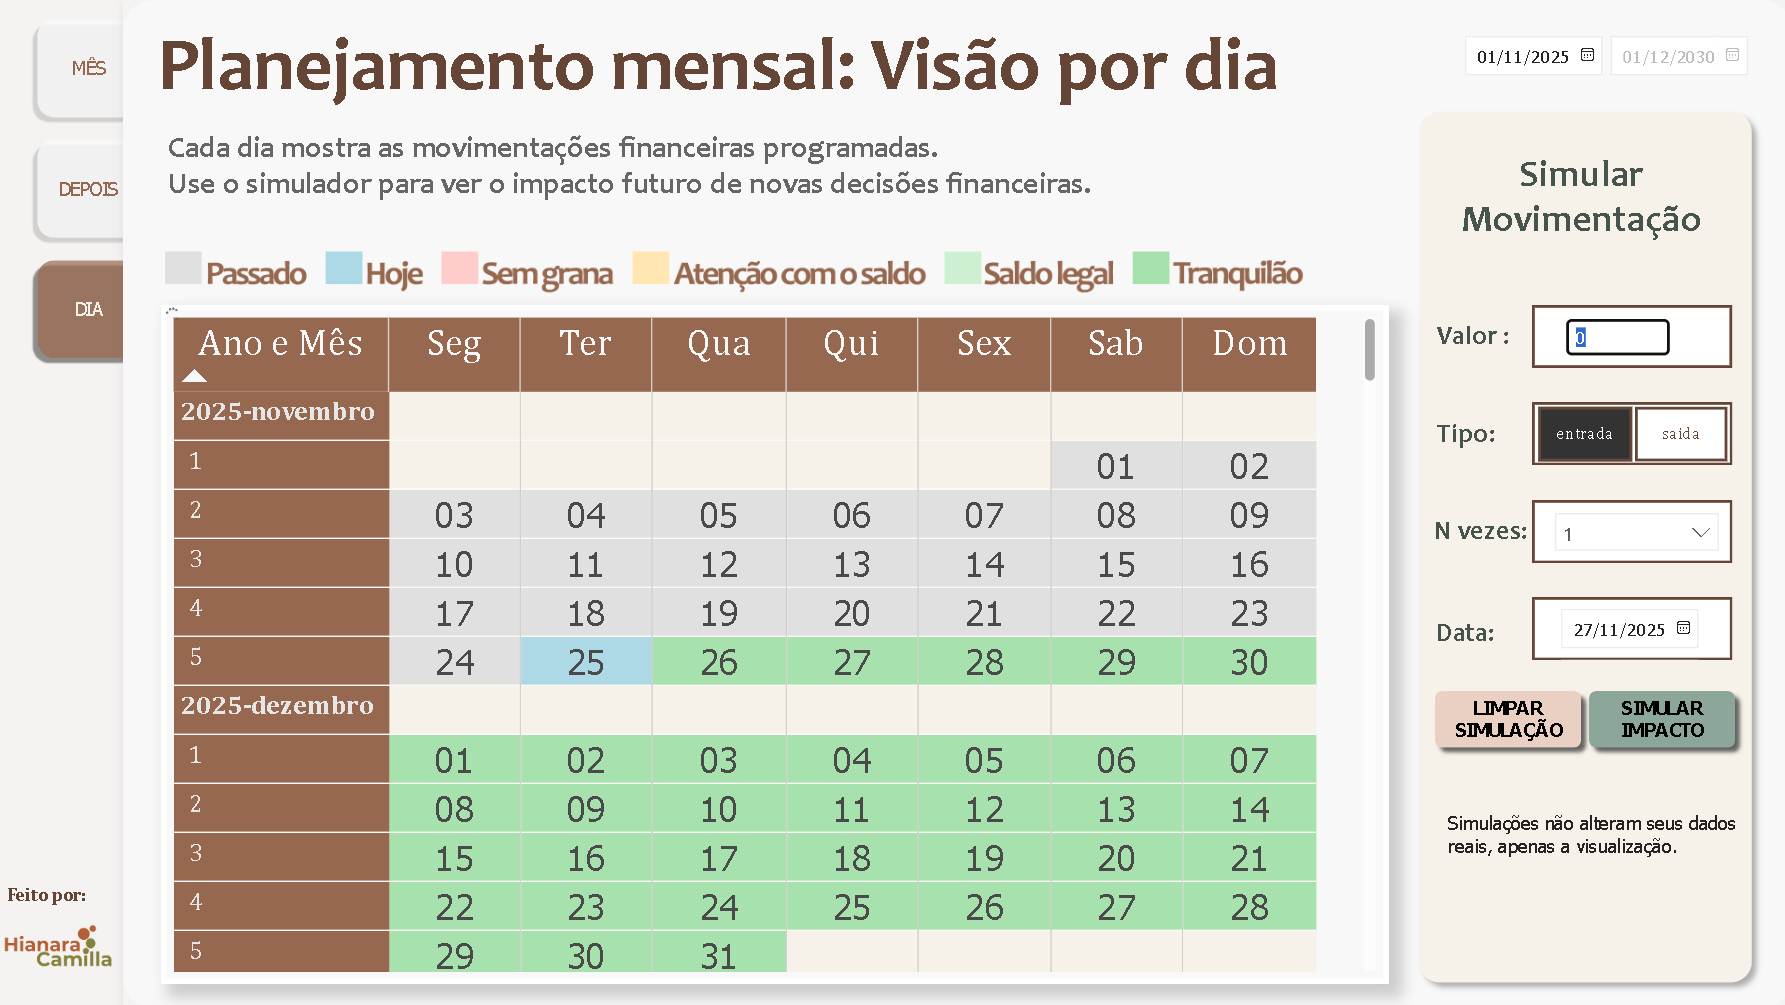

This screenshot's page, from the dashboard's own definition file:
{"tool":"powerbi","page":{"name":"DIA","canvas":[1280,720],"ordinal":2},"visuals":[{"type":"shape","box":[88,0,1192,720],"z":0},{"type":"slicer","fields":{"Values":["ParamSim_Ativo.Aplicar"]},"box":[1020,476,227,66],"z":1000},{"type":"shape","box":[1004,71,256,640],"z":2000},{"type":"pageNavigator","box":[11,8,96,256],"z":3000},{"type":"textbox","box":[1021.1,103.2,216,88],"z":4000},{"type":"textbox","box":[1019.3,362,108,40],"z":5000},{"type":"textbox","box":[1021,435,85,38],"z":6000},{"type":"textbox","box":[1021.2,222.7,77.1,39.9],"z":7000},{"type":"textbox","box":[1029,575,216,72],"z":8000},{"type":"shape","box":[1094,218,143,45],"z":9000},{"type":"shape","box":[1094,426.4,143.3,45.3],"z":10000},{"type":"textbox","box":[1021.2,292.7,77.3,40],"z":11000},{"type":"slicer","fields":{"Values":["ParamSim_Valor.ParamSim_Valor"]},"box":[1106,218,174,41],"z":12000},{"type":"slicer","fields":{"Values":["ParamSim_Data.Data"]},"box":[1099,426,181,45],"z":13000},{"type":"slicer","fields":{"Values":["D_Calendario.AnoMes"]},"box":[1033.9,15.6,231.5,48.6],"z":14000},{"type":"textbox","box":[107,8,842,86],"z":15000},{"type":"pivotTable","fields":{"Rows":["D_Calendario.AnoMes","D_Calendario.SemanaMes"],"Columns":["D_Calendario.DiaSemana"],"Values":["M_Medidas_Financeiro.Dia Label"]},"box":[115.5,210.9,876.4,484.5],"z":16000},{"type":"shape","box":[1094.2,269.9,143.3,80],"z":17000},{"type":"shape","box":[1094,356.8,143.3,45.3],"z":18000},{"type":"slicer","fields":{"Values":["ParamSim_Parcelas.ParamSim_Parcelas"]},"box":[1100.7,356.7,136.7,51.3],"z":19000},{"type":"slicer","fields":{"Values":["Param Tipo Sim.Tipo"]},"box":[1102,275,128,76],"z":20000},{"type":"actionButton","box":[1015.6,483.3,120,56.7],"z":21000},{"type":"actionButton","box":[1126.7,483.3,120,56.7],"z":22000},{"type":"textbox","box":[115,87,785,72],"z":23000},{"type":"image","box":[107.3,122.7,833.6,85.5],"z":24000},{"type":"image","box":[0,639,84,72],"z":25000},{"type":"textbox","box":[0,626,76,40],"z":26000}]}

Visuals, with their boxes in screenshot pixels (x1, y1, x2, y2), scaled from the page's 1280x720 canvas onto the 1785x1005 screenshot:
shape: [left=123, top=0, right=1784, bottom=1004]
slicer - ParamSim_Ativo.Aplicar: [left=1422, top=664, right=1739, bottom=757]
shape: [left=1400, top=99, right=1757, bottom=992]
pageNavigator: [left=15, top=11, right=149, bottom=368]
textbox: [left=1424, top=144, right=1725, bottom=267]
textbox: [left=1421, top=505, right=1572, bottom=561]
textbox: [left=1424, top=607, right=1542, bottom=660]
textbox: [left=1424, top=311, right=1532, bottom=367]
textbox: [left=1435, top=803, right=1736, bottom=903]
shape: [left=1526, top=304, right=1725, bottom=367]
shape: [left=1526, top=595, right=1725, bottom=658]
textbox: [left=1424, top=409, right=1532, bottom=464]
slicer - ParamSim_Valor.ParamSim_Valor: [left=1542, top=304, right=1784, bottom=362]
slicer - ParamSim_Data.Data: [left=1533, top=595, right=1784, bottom=657]
slicer - D_Calendario.AnoMes: [left=1442, top=22, right=1765, bottom=90]
textbox: [left=149, top=11, right=1323, bottom=131]
pivotTable - D_Calendario.AnoMes x D_Calendario.SemanaMes: [left=161, top=294, right=1383, bottom=971]
shape: [left=1526, top=377, right=1726, bottom=488]
shape: [left=1526, top=498, right=1725, bottom=561]
slicer - ParamSim_Parcelas.ParamSim_Parcelas: [left=1535, top=498, right=1726, bottom=570]
slicer - Param Tipo Sim.Tipo: [left=1537, top=384, right=1715, bottom=490]
actionButton: [left=1416, top=675, right=1584, bottom=754]
actionButton: [left=1571, top=675, right=1739, bottom=754]
textbox: [left=160, top=121, right=1255, bottom=222]
image: [left=150, top=171, right=1312, bottom=291]
image: [left=0, top=892, right=117, bottom=992]
textbox: [left=0, top=874, right=106, bottom=930]
